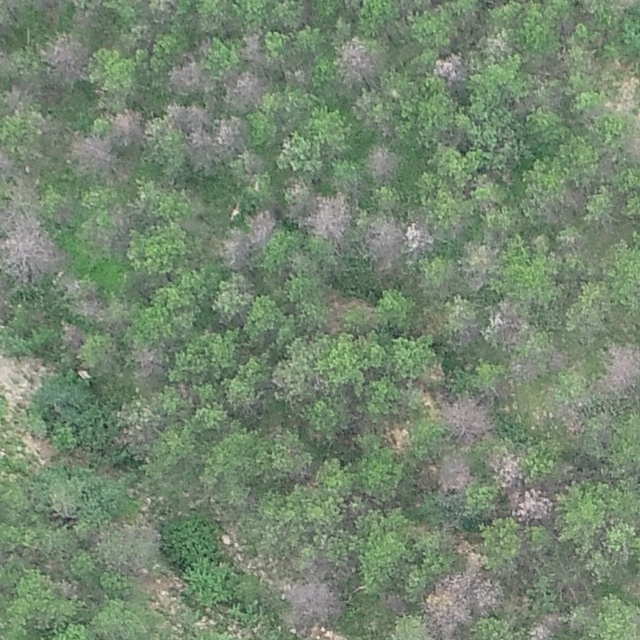unhealthy: (0, 209, 58, 278), (281, 576, 343, 623), (424, 573, 473, 631), (440, 393, 492, 445), (39, 33, 93, 79), (330, 34, 380, 83), (304, 192, 351, 243), (363, 213, 401, 274), (69, 131, 117, 172), (600, 343, 639, 393), (64, 281, 108, 323), (459, 240, 499, 284), (488, 298, 528, 342), (224, 68, 268, 107), (510, 485, 554, 522), (165, 57, 206, 95), (437, 454, 475, 494), (485, 448, 523, 487), (185, 124, 218, 168), (166, 100, 210, 131), (470, 574, 504, 613), (364, 144, 400, 180), (109, 107, 143, 144), (219, 228, 248, 271), (112, 422, 156, 449), (246, 207, 278, 244), (214, 115, 246, 151), (404, 219, 436, 255), (133, 343, 166, 377), (433, 52, 467, 84), (556, 401, 587, 435), (4, 81, 39, 111), (612, 75, 640, 112), (528, 611, 563, 640), (237, 29, 266, 63), (237, 148, 266, 179), (507, 357, 540, 383), (58, 321, 86, 349), (462, 550, 488, 576), (486, 26, 511, 50), (382, 589, 406, 614), (548, 348, 568, 370)
